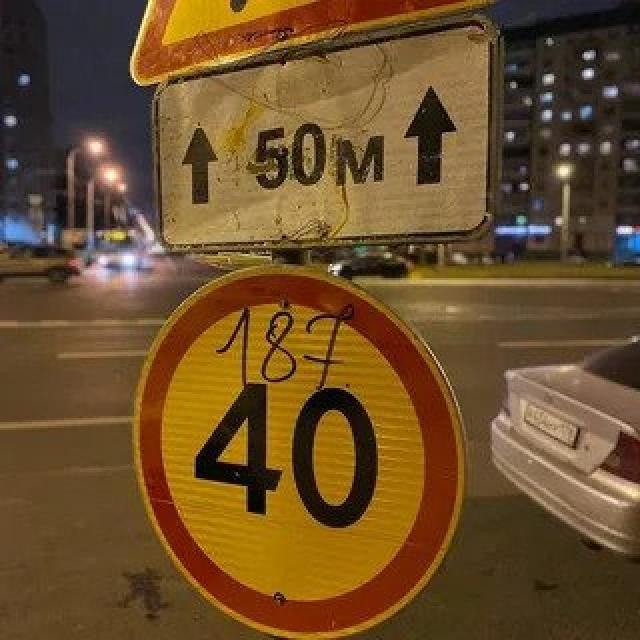speed limit 40: (122, 257, 471, 640)
